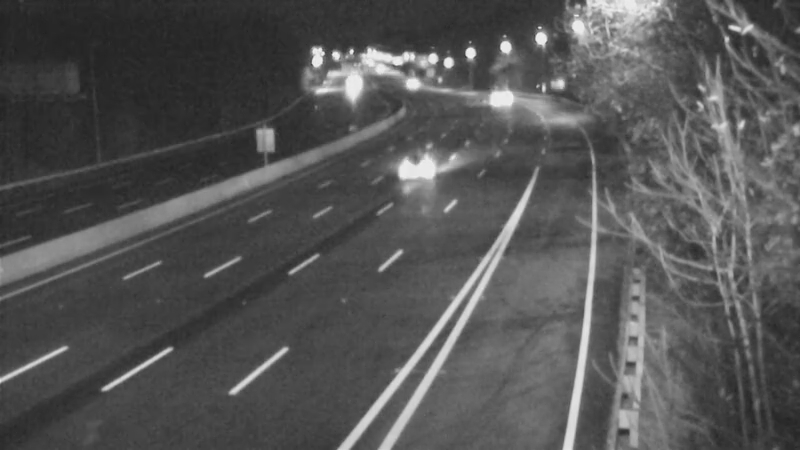vehicle: (371, 131, 451, 211), (386, 59, 436, 109), (471, 70, 521, 120)
